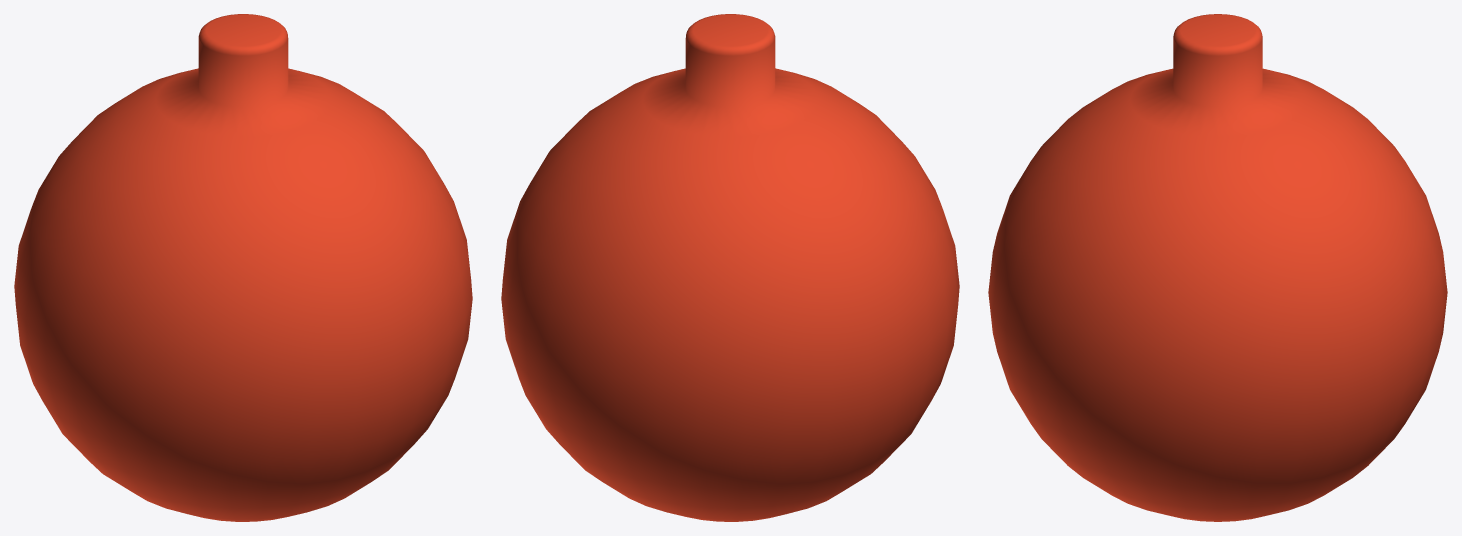
Rendered from Samandira_Kucuk.fbx.
3 renders of one model, left to right at view 1: azimuth 30°, elevation 25°; view 2: azimuth 150°, elevation 25°; view 3: azimuth 270°, elevation 25°, orthographic.
Visible parts, largest first — view 1: Şamandıra; view 2: Şamandıra; view 3: Şamandıra.
Part boxes in pixels (<box>): Şamandıra: <box>14,14,472,521</box>; Şamandıra: <box>501,14,959,521</box>; Şamandıra: <box>988,14,1447,521</box>.
Size of the model in its own units: 68.95 by 77.9 by 68.95.
